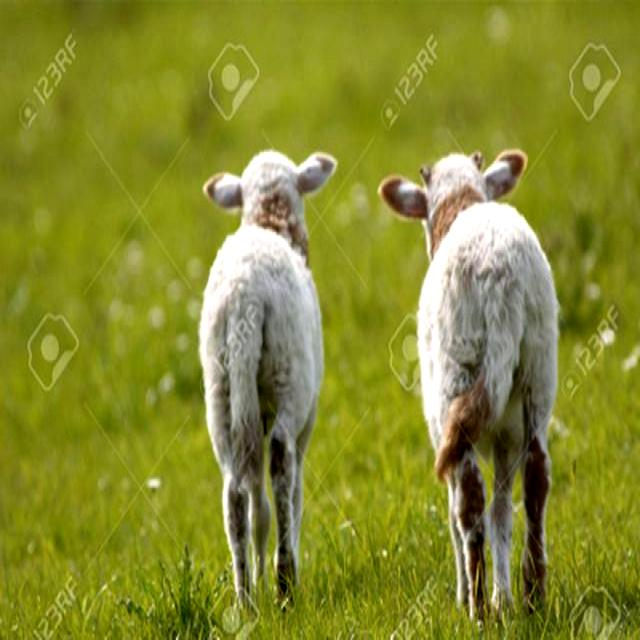sheep: (377, 148, 558, 620), (199, 154, 335, 602)
